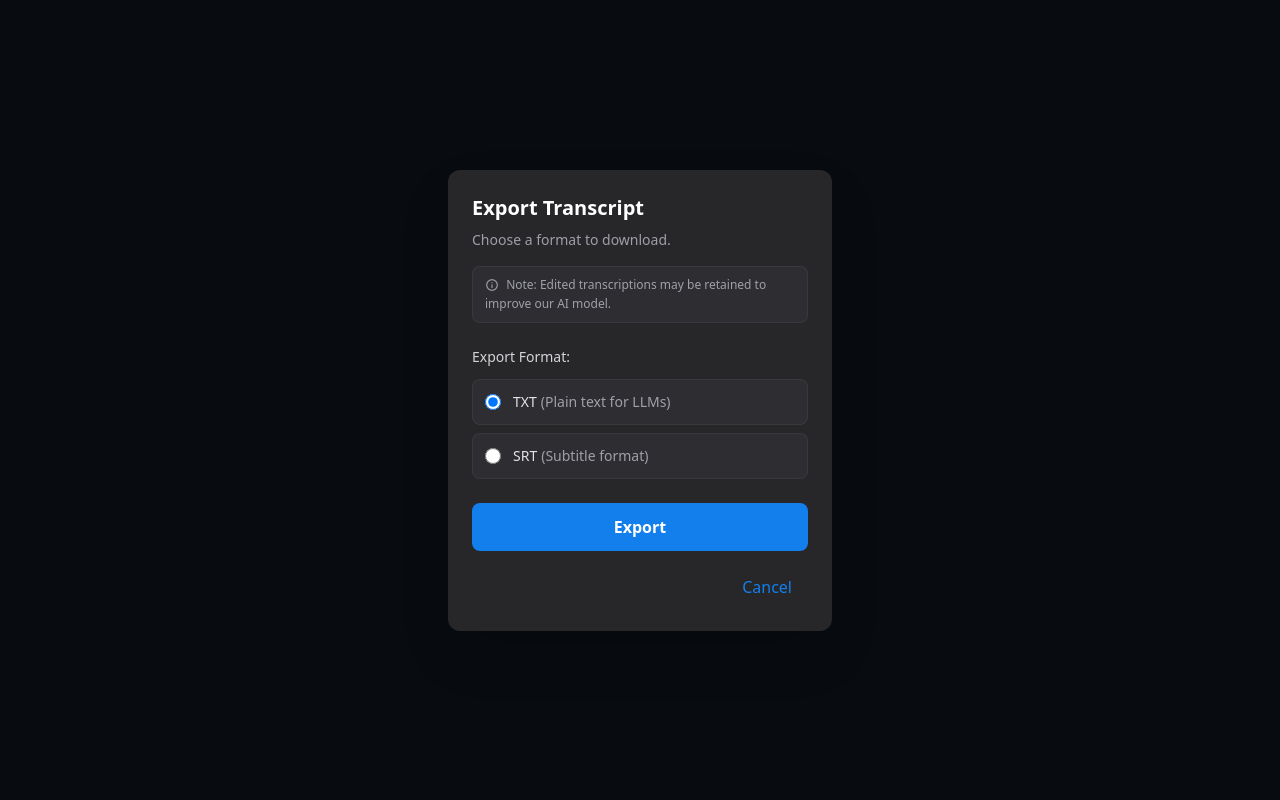
Test: ExportModal › Loading State (AC #5) › shows loading state during export
Click the button "Export": (640, 526) [472,502,808,550]
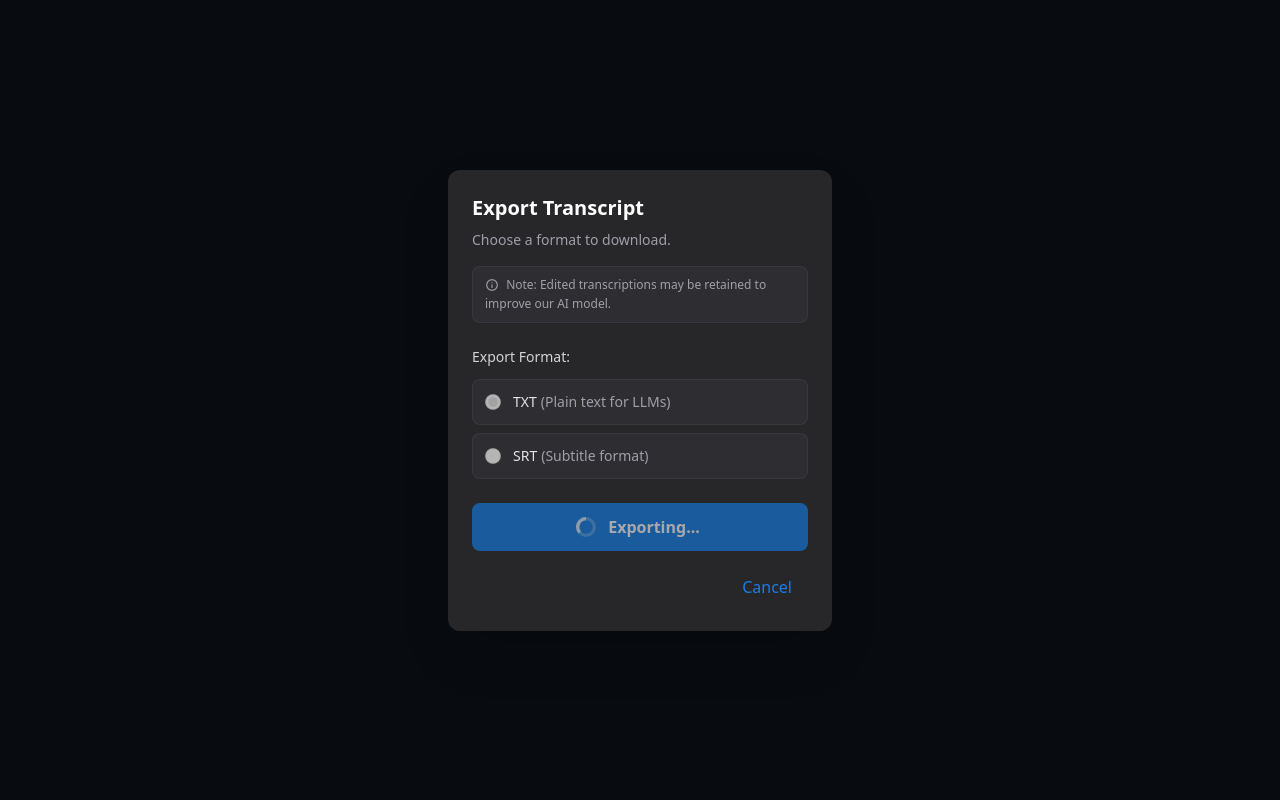
expect the text "Exporting..." is shown: met, box [580,514,700,538]
expect the button "Exporting..." is disabled: met, box [472,502,808,550]
